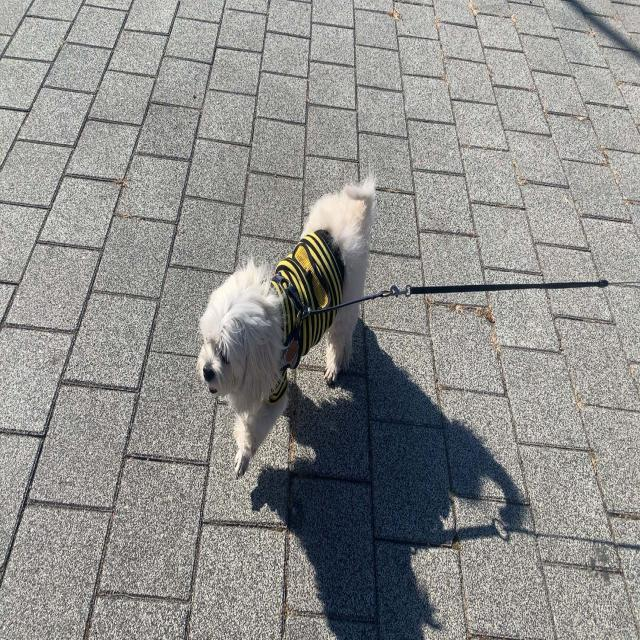Dog: (198, 164, 378, 477)
